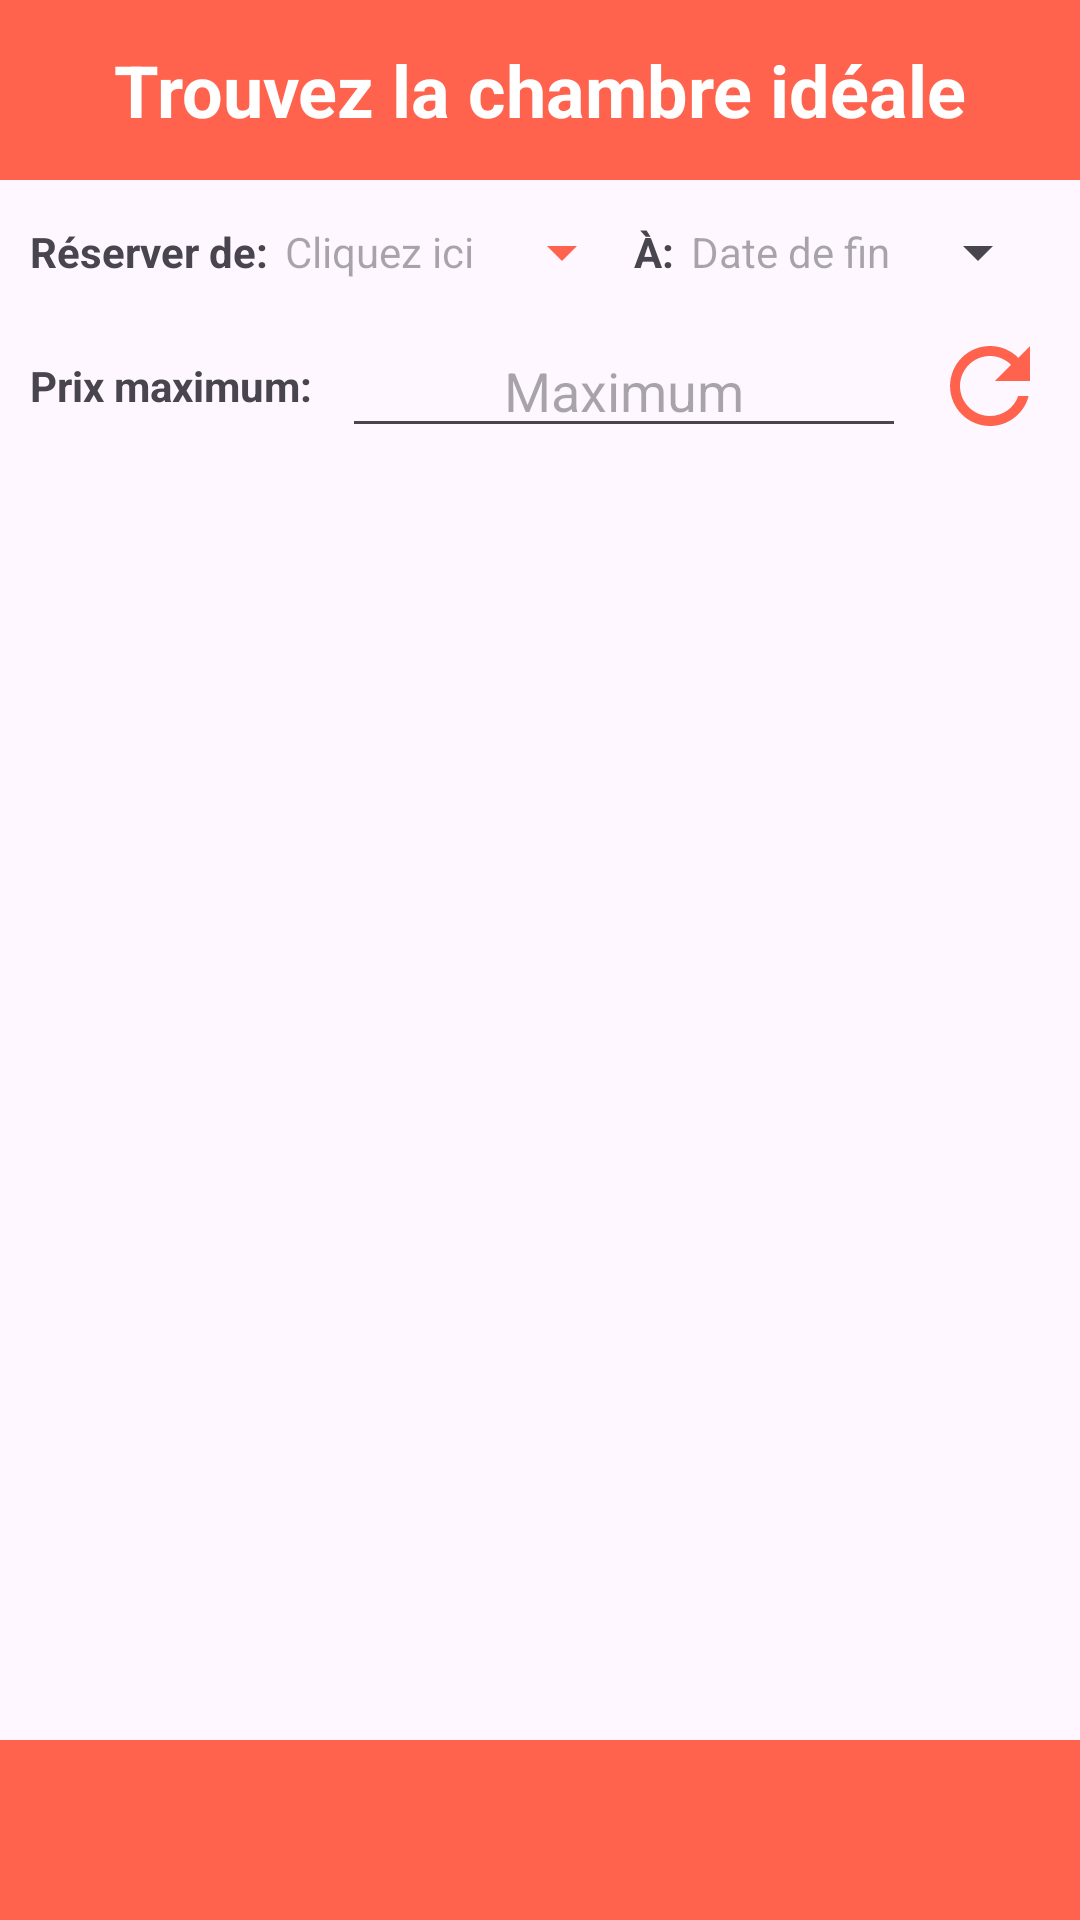

Named icons in this screenshot (1080px x 1920px) and their bounding boxes, (x1, y1, x2, y2):
refresh: (950, 346, 1030, 426)
